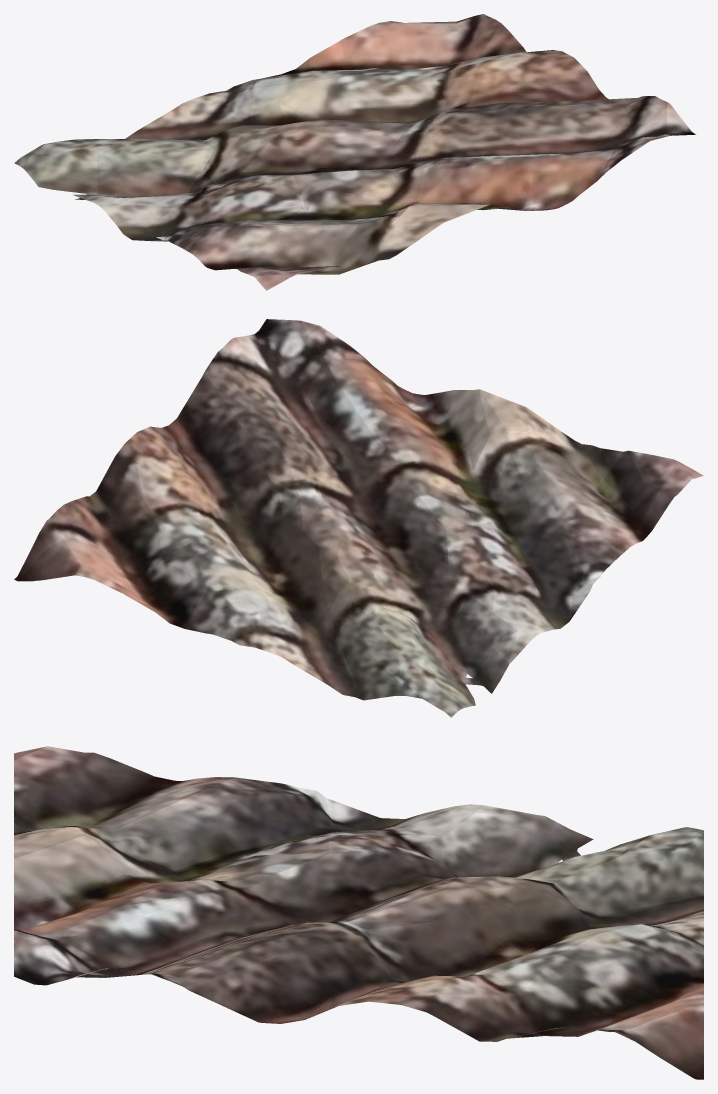
3 views of the same model, one above another, from view 1: azimuth 30°, elevation 25°; view 2: azimuth 150°, elevation 25°; view 3: azimuth 270°, elevation 25° (orthographic). The views are drawn at different scales.
Size of the model in its own units: 0.8373 by 0.2189 by 0.8374.
3 materials, 3 textured.
